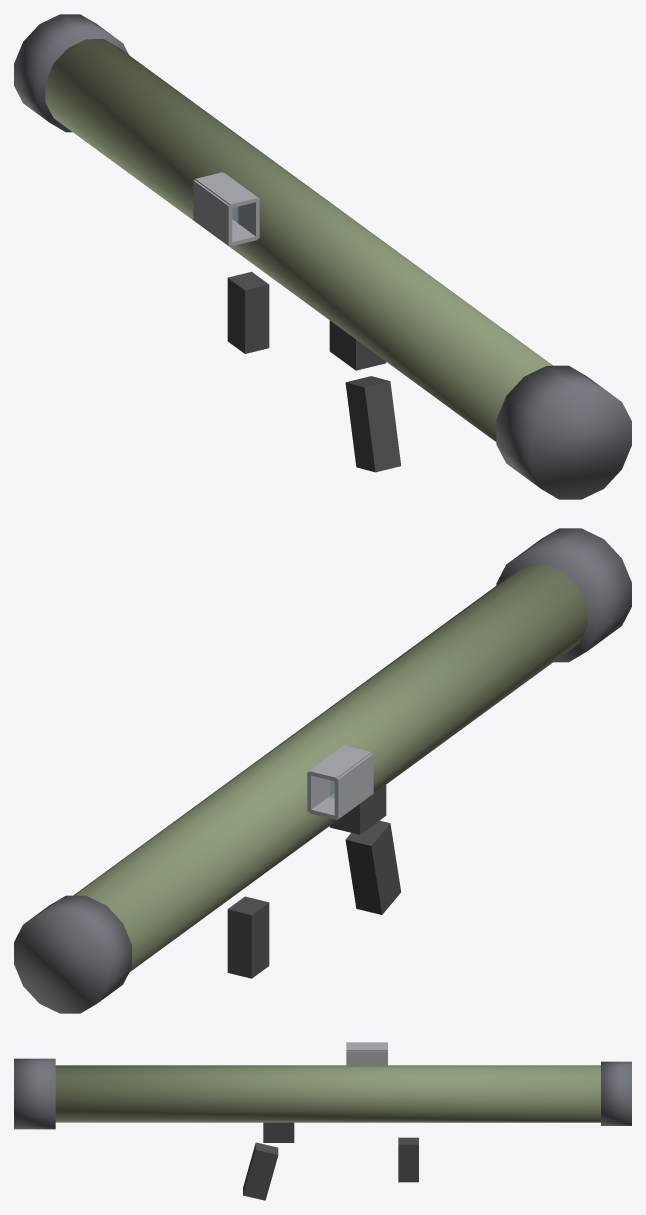
The model's file is launcher_held.gltf.
The picture shows the model from 3 angles, top to bottom: view 1: azimuth 30°, elevation 25°; view 2: azimuth 150°, elevation 25°; view 3: azimuth 270°, elevation 25°; orthographic projection. The views are drawn at different scales.
Visible parts, largest first — view 1: launcher_held; view 2: launcher_held; view 3: launcher_held.
Boxes of the visible parts, box(x1,y1,x2,y2) form: launcher_held: box(14, 14, 631, 499); launcher_held: box(14, 528, 631, 1013); launcher_held: box(14, 1042, 631, 1200).
Size of the model in its own units: 0.1618 by 0.287 by 1.19.
